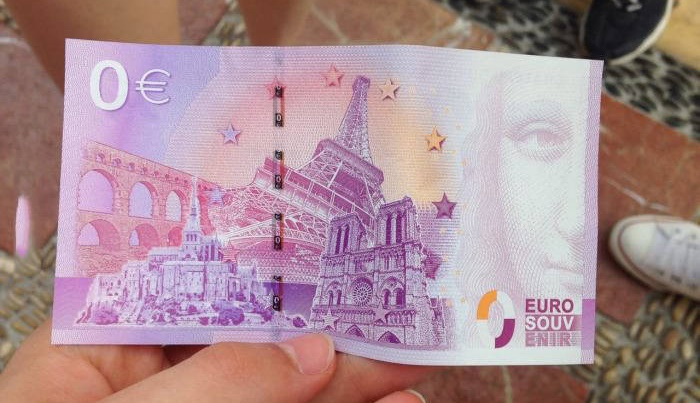billete: (48, 36, 605, 368)
